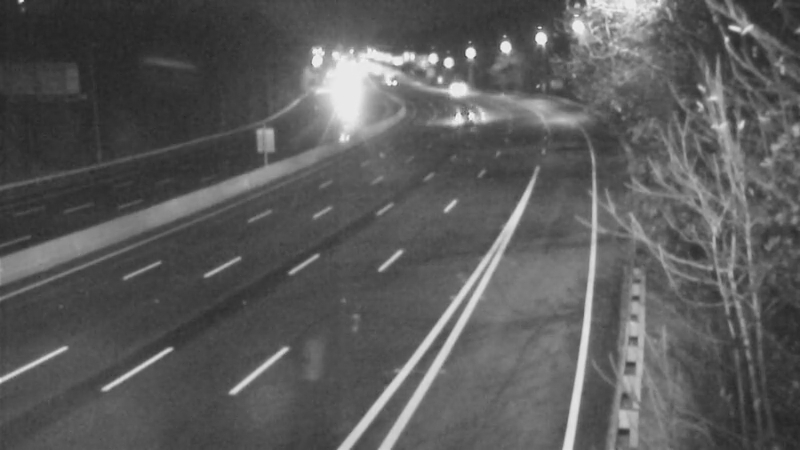vehicle: (365, 54, 415, 104), (432, 69, 482, 119), (442, 90, 492, 140)
